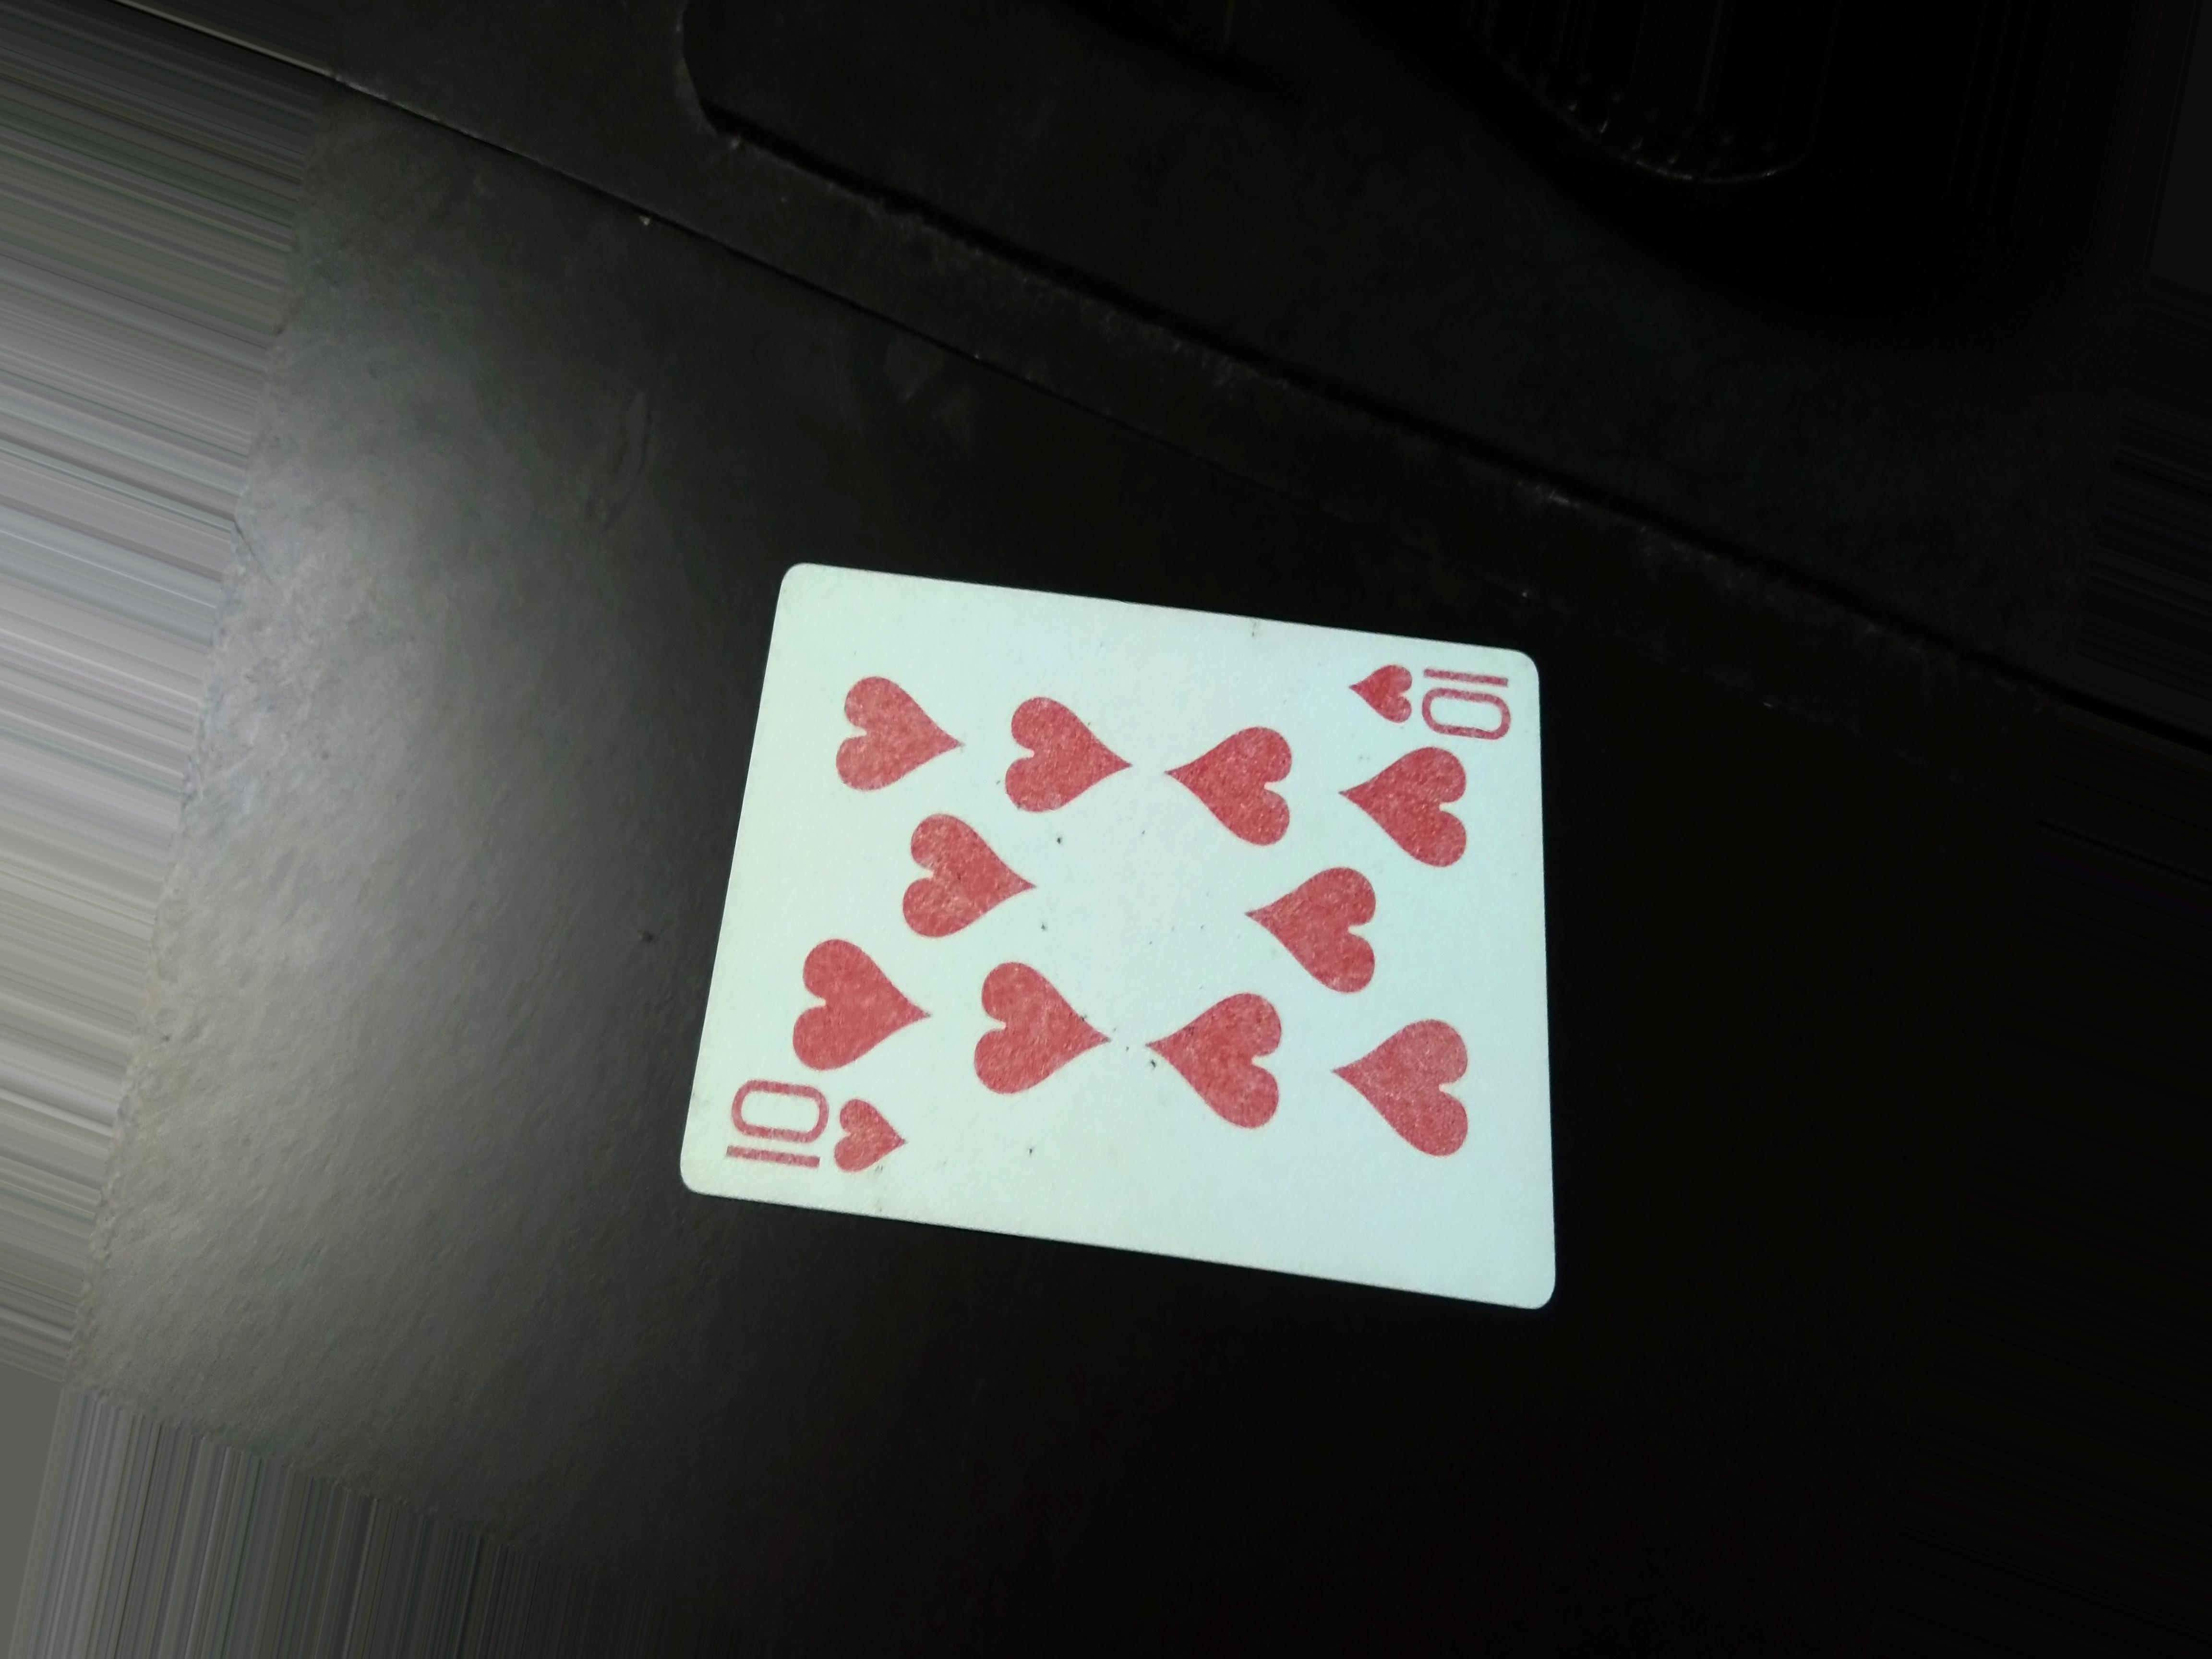10H: (1329, 653, 1524, 749)
